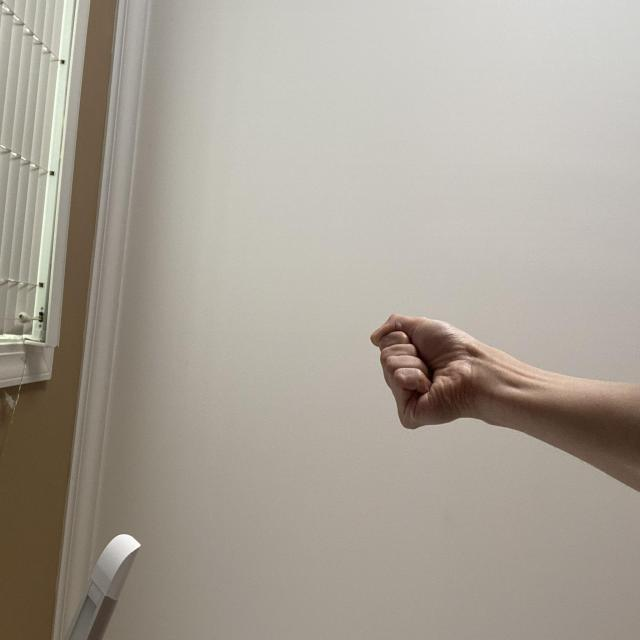A: (154, 486, 253, 640)
